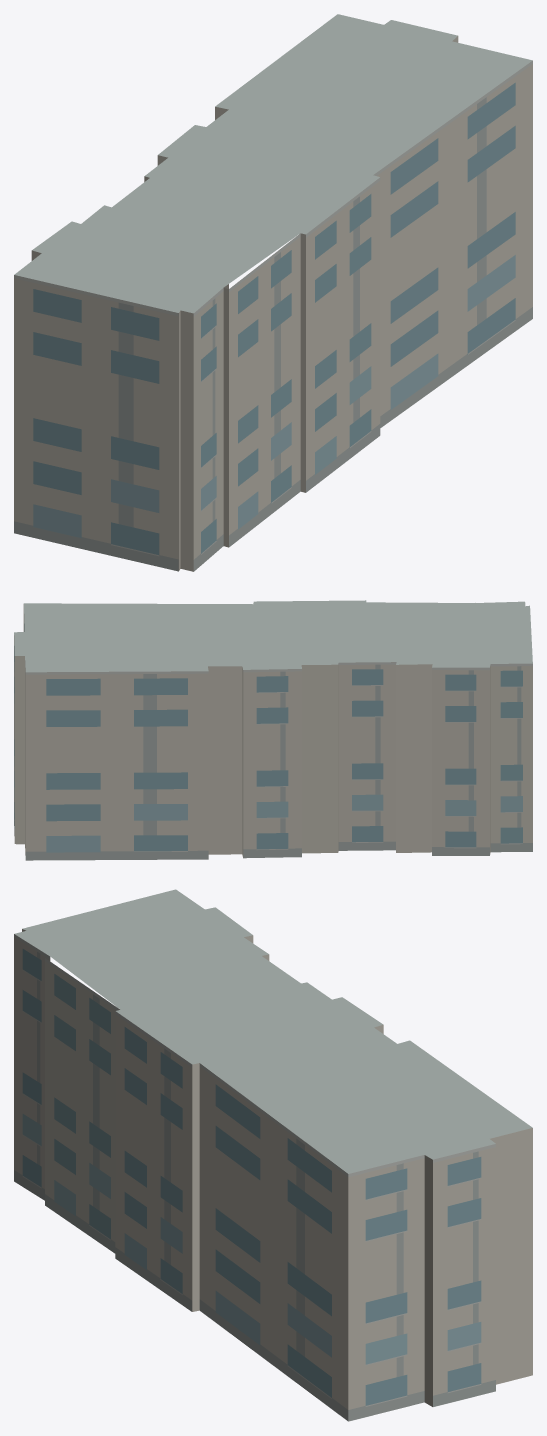
File: survey-upis-32945438.glb
3 renders of one model, top to bottom at view 1: azimuth 30°, elevation 25°; view 2: azimuth 150°, elevation 25°; view 3: azimuth 270°, elevation 25°, orthographic. The views are drawn at different scales.
Parts seen in each view (by area): view 1: survey-upis-32945438.tmp; view 2: survey-upis-32945438.tmp; view 3: survey-upis-32945438.tmp.
Part boxes in pixels (x1,y1,x2,y2): survey-upis-32945438.tmp: [14, 14, 532, 571]; survey-upis-32945438.tmp: [14, 600, 532, 860]; survey-upis-32945438.tmp: [14, 889, 532, 1421].
Size of the model in its own units: 45.8 by 18.57 by 35.28.
